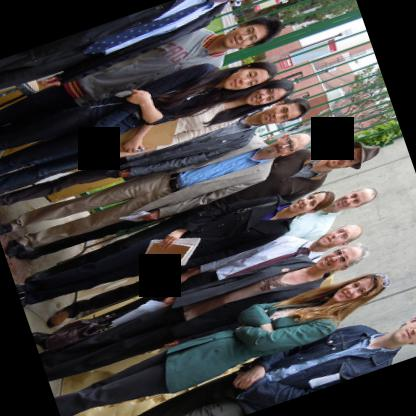handbag: (46, 312, 114, 352), (212, 199, 279, 222)
